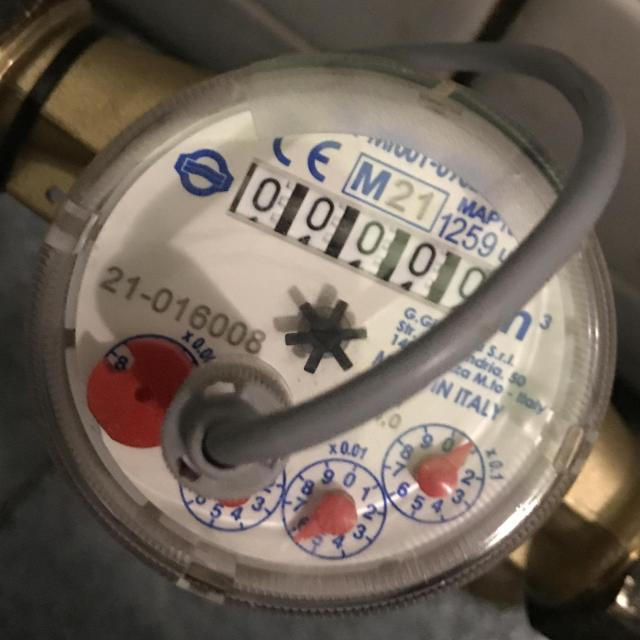gaz_meter: (60, 80, 601, 572)
indication: (229, 154, 499, 321)
